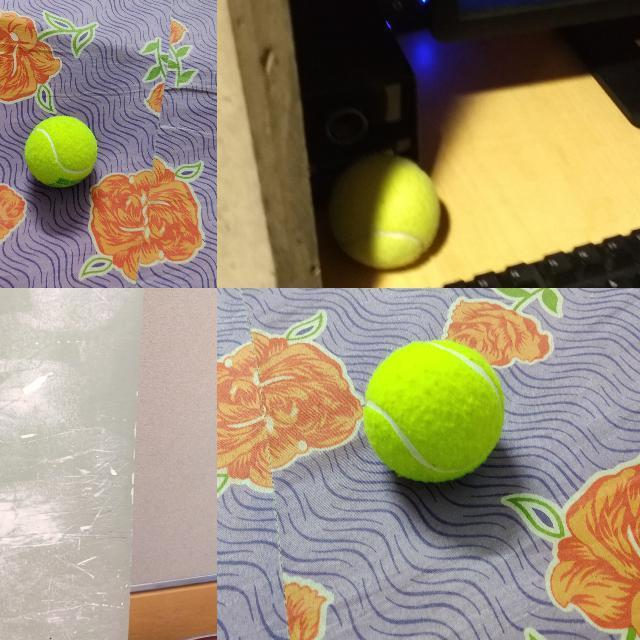tennis-ball: (363, 339, 505, 482), (328, 153, 442, 271), (24, 116, 97, 187)
